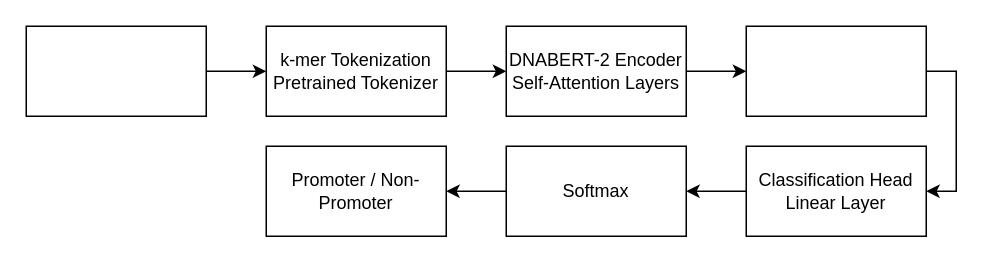
Image size: 995x263. Some labels were removed from this diagram. Each missing label, with the centre of its shape:
"CLS Representation" goes at point 835,70.
"DNA Sequence 400 bp" goes at point 115,70.
